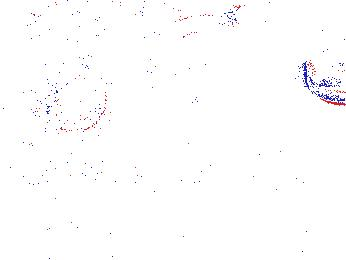moon jellyfish: (146, 13, 242, 80), (208, 22, 281, 95), (45, 67, 109, 129), (302, 40, 346, 107)
